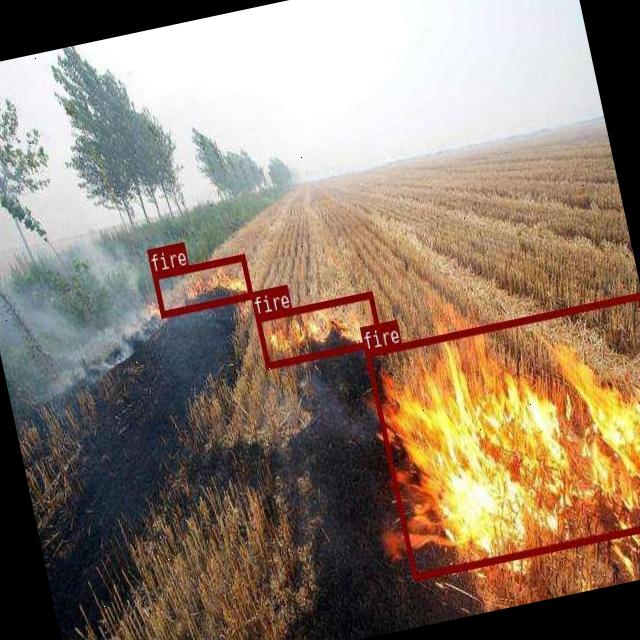fire: (363, 292, 640, 579), (254, 290, 382, 368), (152, 253, 252, 316)
